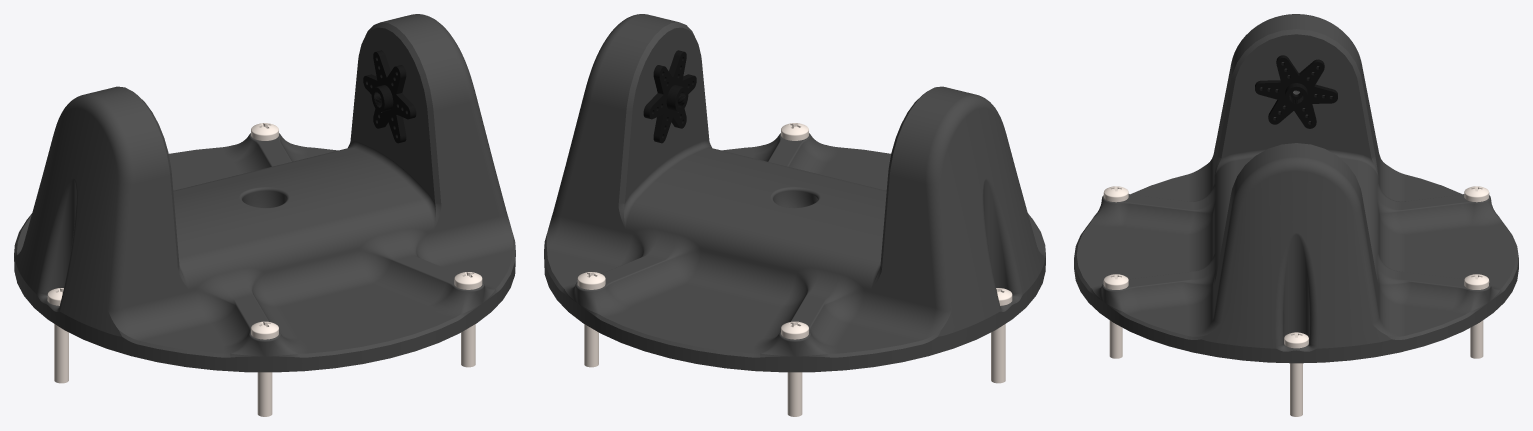
The model's file is MROS_TURRET_COVER.gltf.
3 renders of one model, left to right at view 1: azimuth 30°, elevation 25°; view 2: azimuth 150°, elevation 25°; view 3: azimuth 270°, elevation 25°, orthographic. The views are drawn at different scales.
Visible parts, largest first — view 1: Turret_Top_Arm1_Connection-1, attachmentStar-1, pan head cross recess screw_din-2, pan head cross recess screw_din-3, pan head cross recess screw_din-1; view 2: Turret_Top_Arm1_Connection-1, attachmentStar-1, pan head cross recess screw_din-4, pan head cross recess screw_din-3, pan head cross recess screw_din-5; view 3: Turret_Top_Arm1_Connection-1, attachmentStar-2, pan head cross recess screw_din-6, pan head cross recess screw_din-1, pan head cross recess screw_din-5.
Part boxes in pixels (bbox=[...]): Turret_Top_Arm1_Connection-1: bbox=[14, 14, 515, 372]; attachmentStar-1: bbox=[363, 50, 416, 143]; pan head cross recess screw_din-2: bbox=[251, 321, 278, 416]; pan head cross recess screw_din-3: bbox=[47, 288, 68, 383]; pan head cross recess screw_din-1: bbox=[454, 272, 482, 367]; Turret_Top_Arm1_Connection-1: bbox=[544, 14, 1045, 372]; attachmentStar-1: bbox=[643, 50, 696, 143]; pan head cross recess screw_din-4: bbox=[781, 321, 808, 416]; pan head cross recess screw_din-3: bbox=[991, 288, 1012, 383]; pan head cross recess screw_din-5: bbox=[577, 272, 605, 367]; Turret_Top_Arm1_Connection-1: bbox=[1074, 14, 1518, 363]; attachmentStar-2: bbox=[1255, 55, 1337, 128]; pan head cross recess screw_din-6: bbox=[1284, 332, 1308, 416]; pan head cross recess screw_din-1: bbox=[1103, 274, 1128, 358]; pan head cross recess screw_din-5: bbox=[1464, 274, 1489, 358].
Size of the model in its own units: 0.17 by 0.1013 by 0.17.
